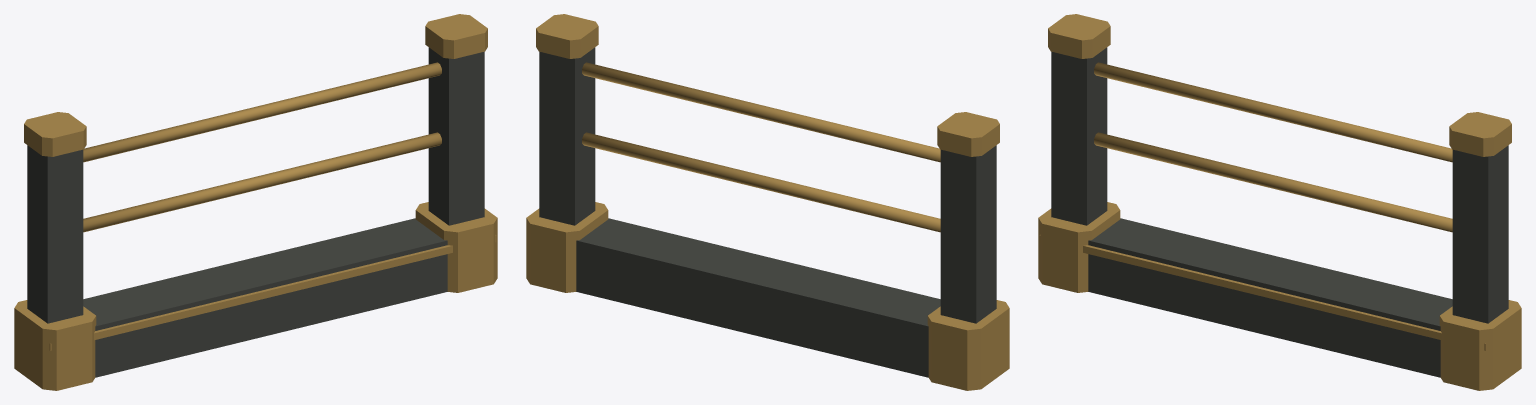
File: b1_rail.glb
The picture shows the model from 3 angles, left to right: view 1: azimuth 30°, elevation 25°; view 2: azimuth 150°, elevation 25°; view 3: azimuth 330°, elevation 25°; orthographic projection.
Visible parts, largest first — view 1: b1_rail; view 2: b1_rail; view 3: b1_rail.
Boxes of the visible parts, x1,y1,x2,y2 form: b1_rail: (14, 14, 497, 390); b1_rail: (526, 14, 1009, 390); b1_rail: (1038, 14, 1521, 390).
Bounding box in the file's own units: 2.04 × 1.06 × 0.3.
